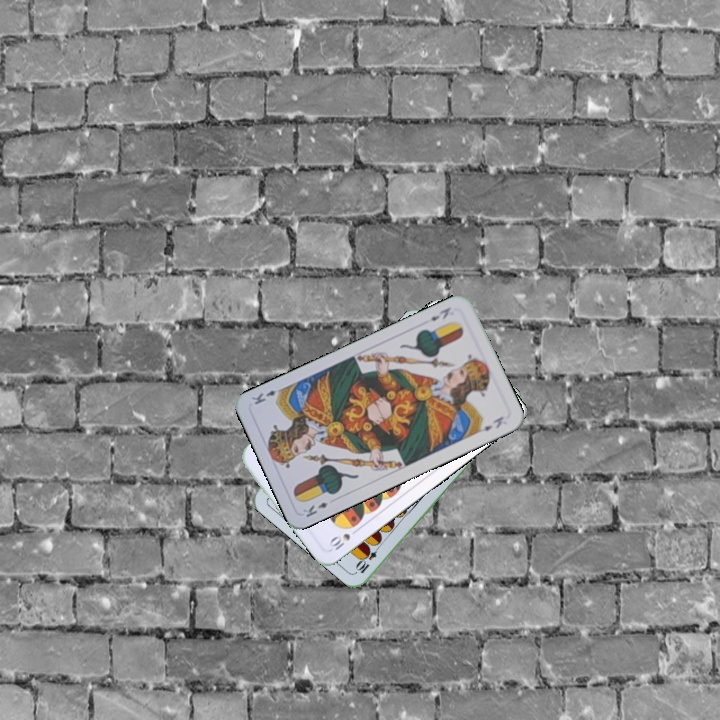E10: (352, 539, 384, 576)
EK: (299, 498, 331, 520), (426, 303, 453, 323)
S10: (325, 524, 362, 553)
